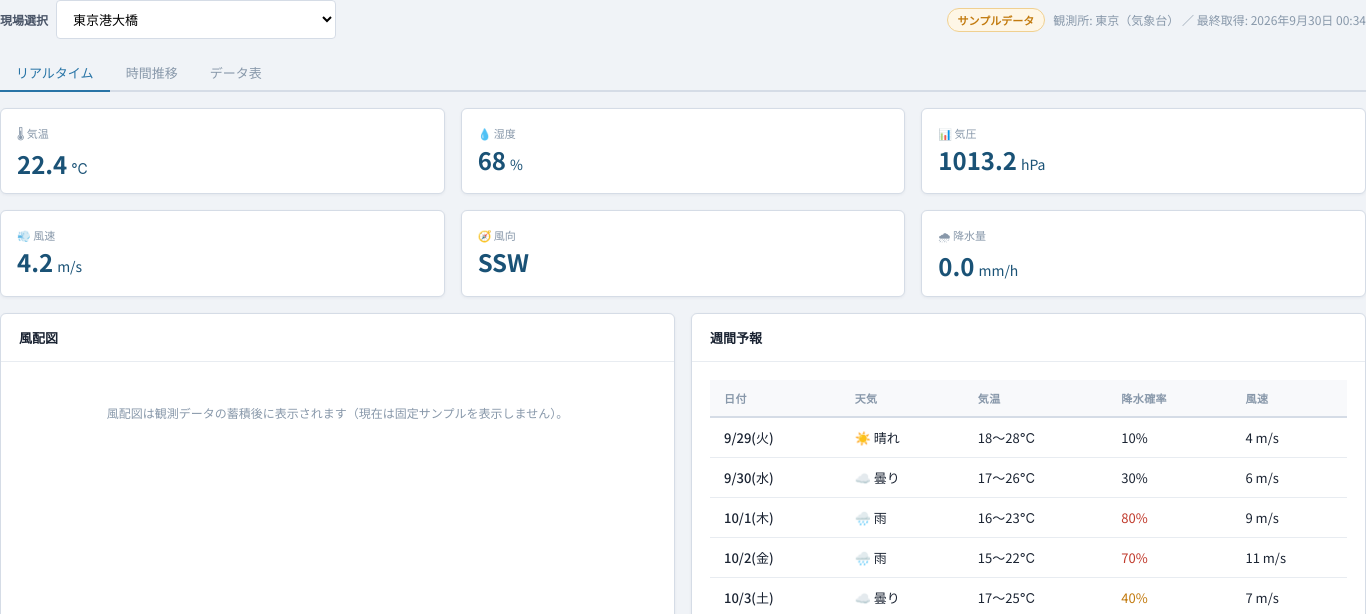
Scenario: WeatherPage › switches to hourly tab and renders 風速推移/気温推移/降水量推移 cards
Click the button with class "tab" showing "時間推移" at [152, 74], box [110, 55, 194, 92]
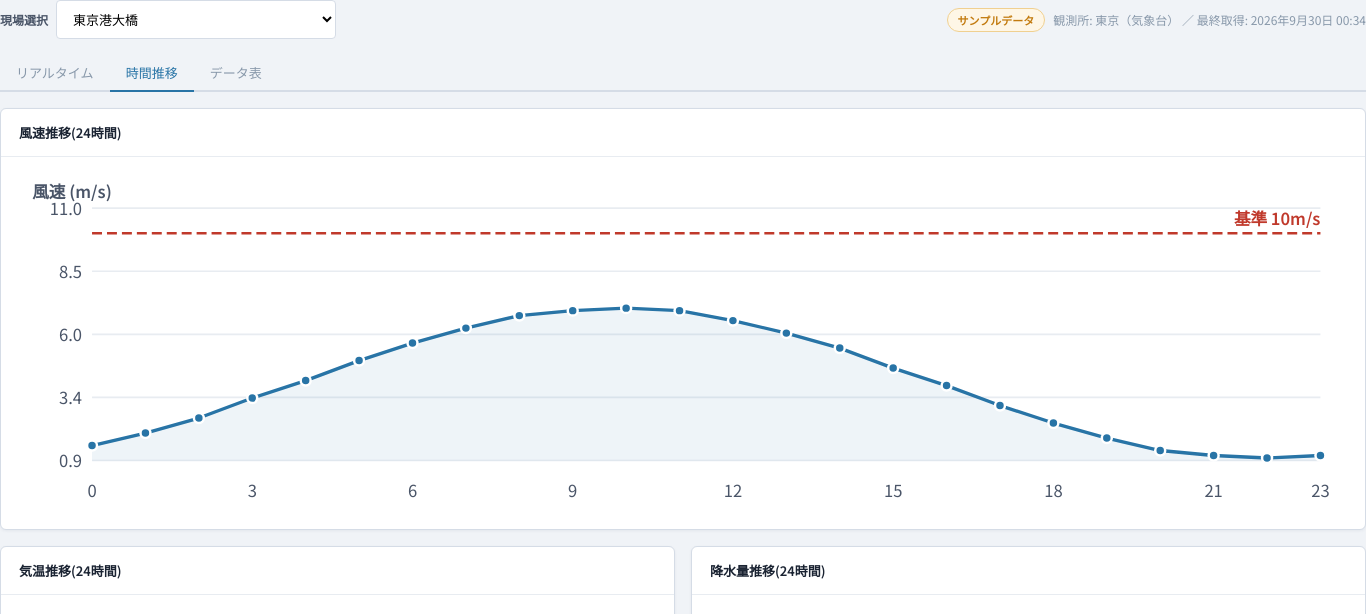
Now the text "風速推移(24時間)" is shown, box [19, 123, 122, 142]
Now the text "気温推移(24時間)" is shown, box [19, 561, 122, 580]
Now the text "降水量推移(24時間)" is shown, box [710, 561, 826, 580]
